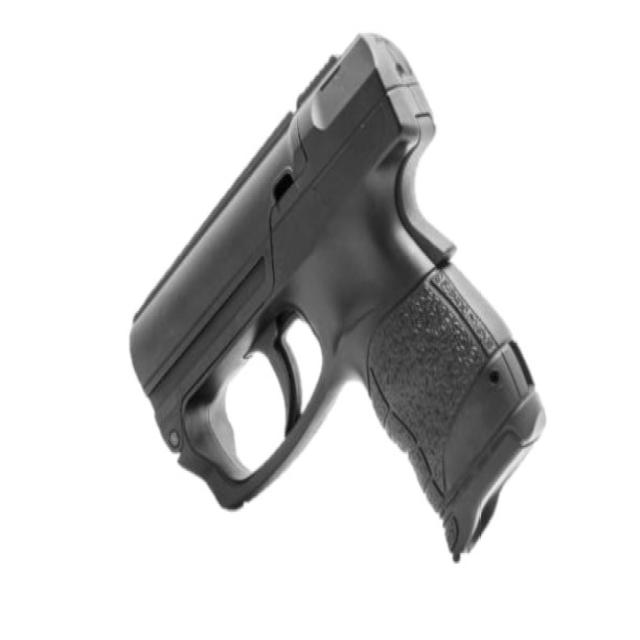pistol: (120, 24, 552, 588)
